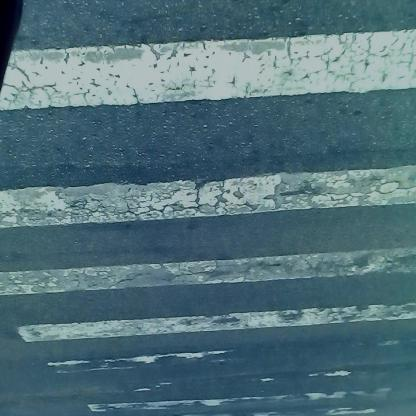crosswalk: (9, 19, 405, 409)
